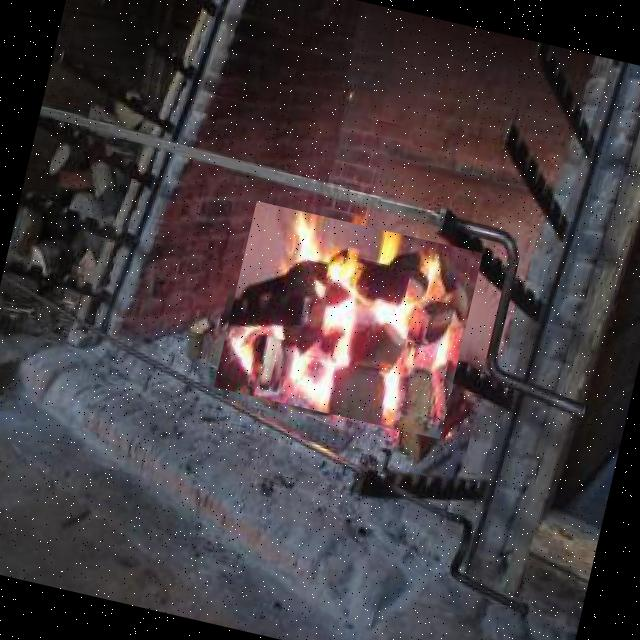fire: (213, 200, 482, 438)
